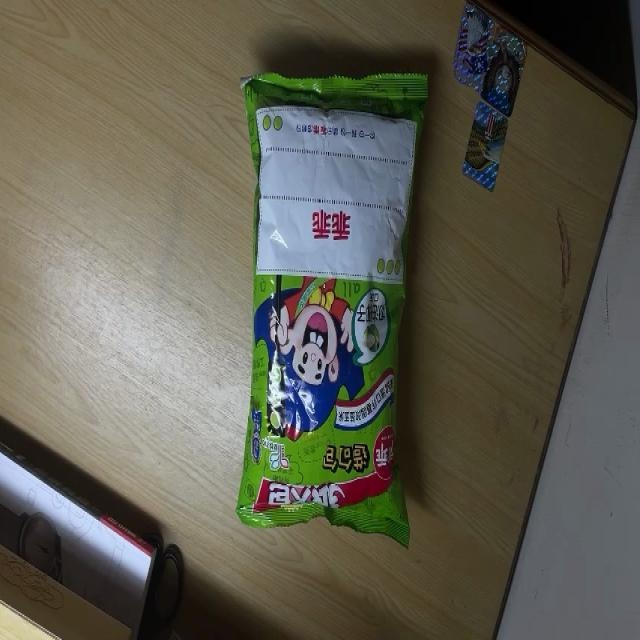Good-Luck: (234, 72, 430, 552)
